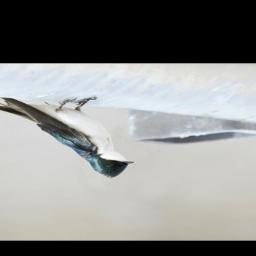Swallow: (0, 93, 136, 180)
